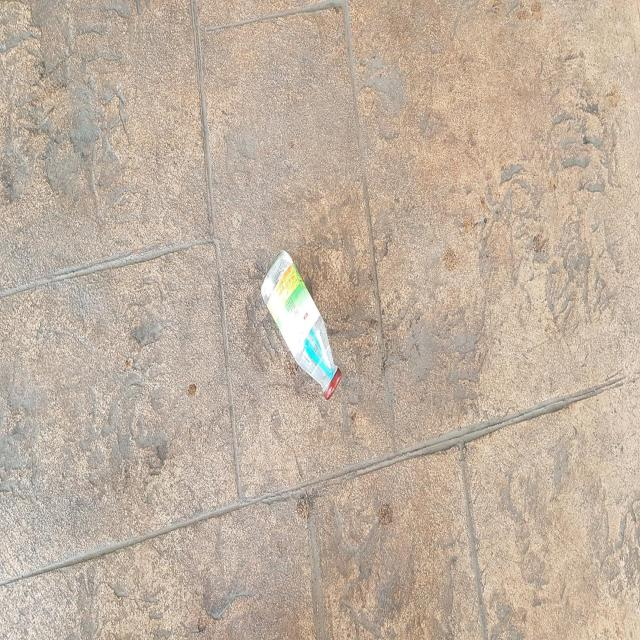glass: (261, 249, 342, 399)
